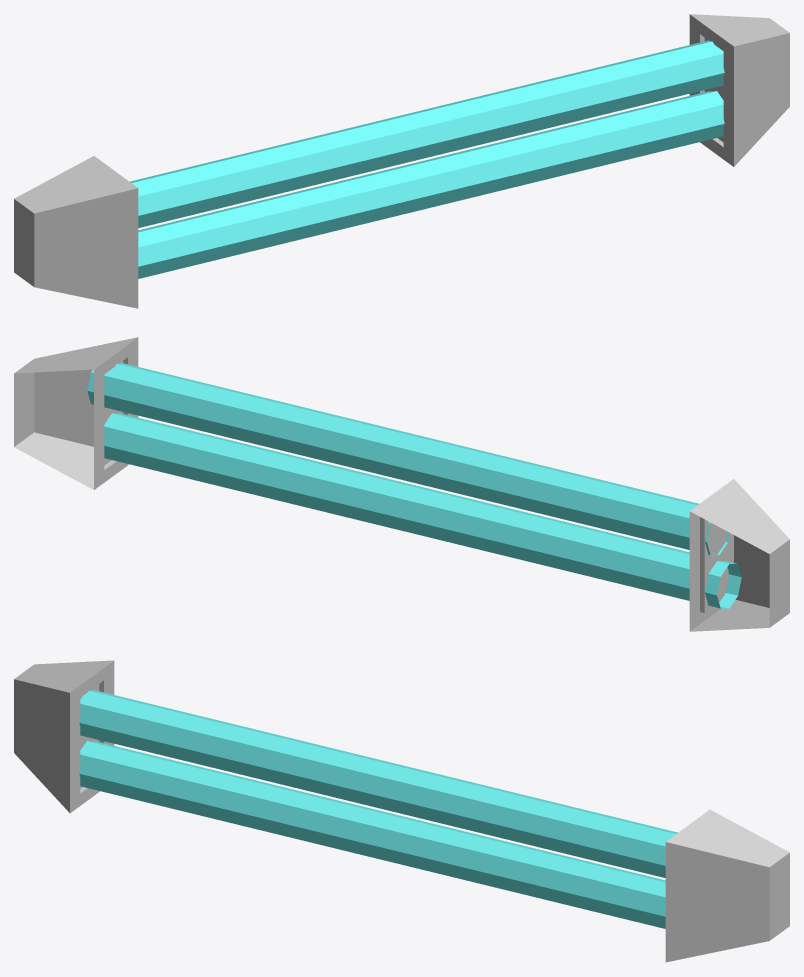
The model's file is Light mesh.fbx.
3 views of the same model, one above another, from view 1: azimuth 30°, elevation 25°; view 2: azimuth 150°, elevation 25°; view 3: azimuth 330°, elevation 25° (orthographic).
Visible parts, largest first — view 1: light; view 2: light; view 3: light.
Boxes of the visible parts, left/top/right/bottom form: light: left=14, top=14, right=789, bottom=308; light: left=14, top=337, right=789, bottom=631; light: left=14, top=660, right=789, bottom=962.
Size of the model in its own units: 1.69 by 0.2655 by 0.1715.
